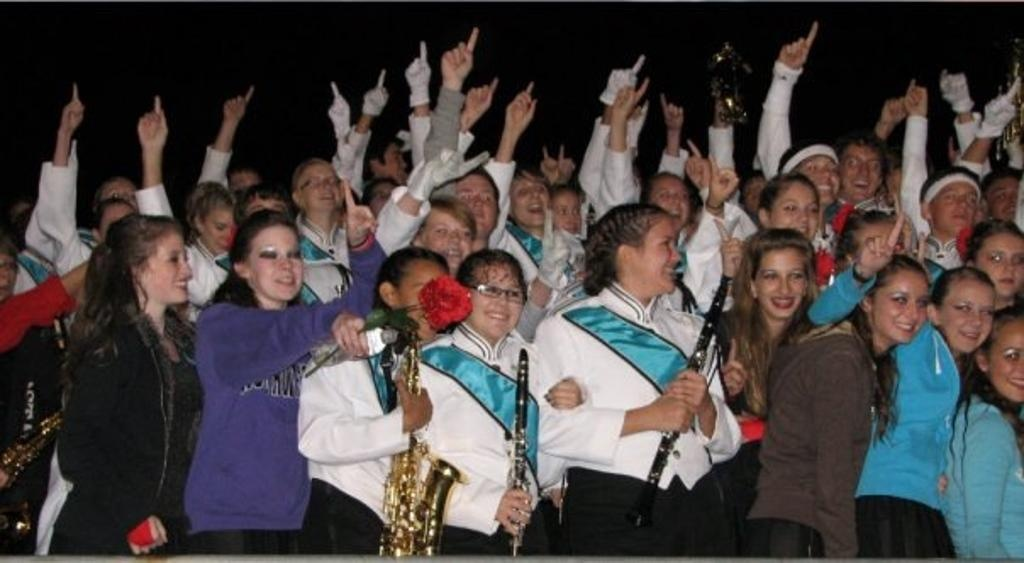human_face: (872, 264, 926, 344), (941, 276, 995, 355), (398, 259, 450, 339), (463, 264, 519, 338), (251, 226, 303, 300), (634, 212, 680, 294), (141, 232, 191, 304), (756, 248, 806, 318), (424, 206, 472, 270), (976, 230, 1022, 296), (988, 319, 1024, 403), (933, 177, 979, 237), (774, 183, 818, 245), (452, 174, 496, 235), (792, 152, 840, 206), (249, 196, 289, 254), (857, 222, 905, 270), (840, 144, 880, 200), (508, 174, 550, 226), (300, 166, 340, 210), (986, 180, 1024, 226), (651, 180, 689, 223), (552, 190, 584, 238), (102, 202, 134, 246), (207, 208, 239, 249), (230, 174, 264, 208), (104, 186, 140, 217), (373, 184, 403, 220), (384, 146, 406, 188), (744, 178, 772, 210), (0, 253, 16, 299)
